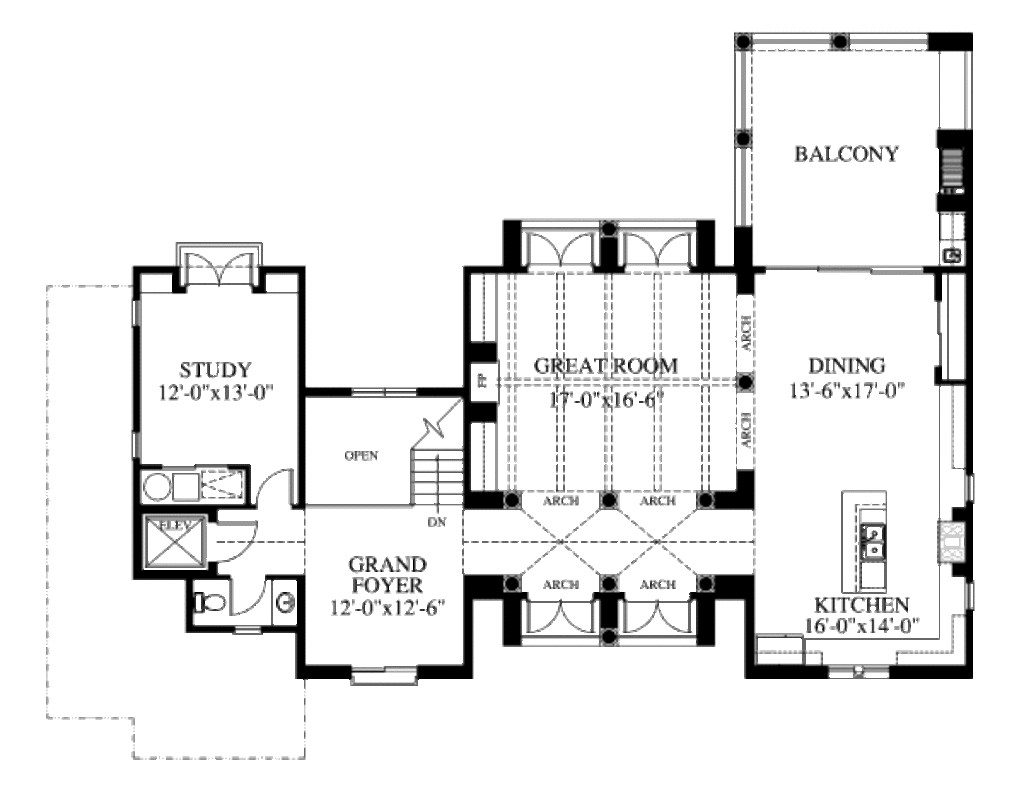door: (618, 591, 693, 638), (523, 593, 597, 637), (615, 233, 697, 270), (187, 252, 256, 294), (526, 231, 595, 267), (210, 517, 261, 563), (250, 465, 296, 508), (226, 573, 269, 619)
large_sink: (192, 589, 226, 621)
small_sink: (269, 579, 300, 627)
stairs: (403, 403, 462, 528)
windows: (183, 252, 260, 286), (345, 382, 420, 405), (825, 664, 893, 680), (958, 580, 979, 613), (962, 469, 980, 507)
